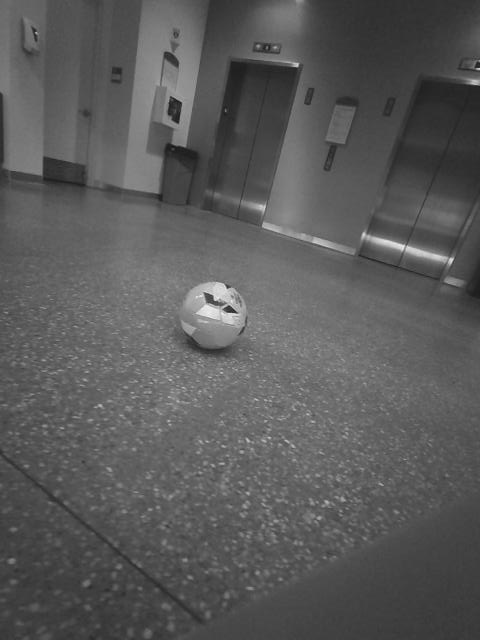ball: (321, 269, 358, 307)
